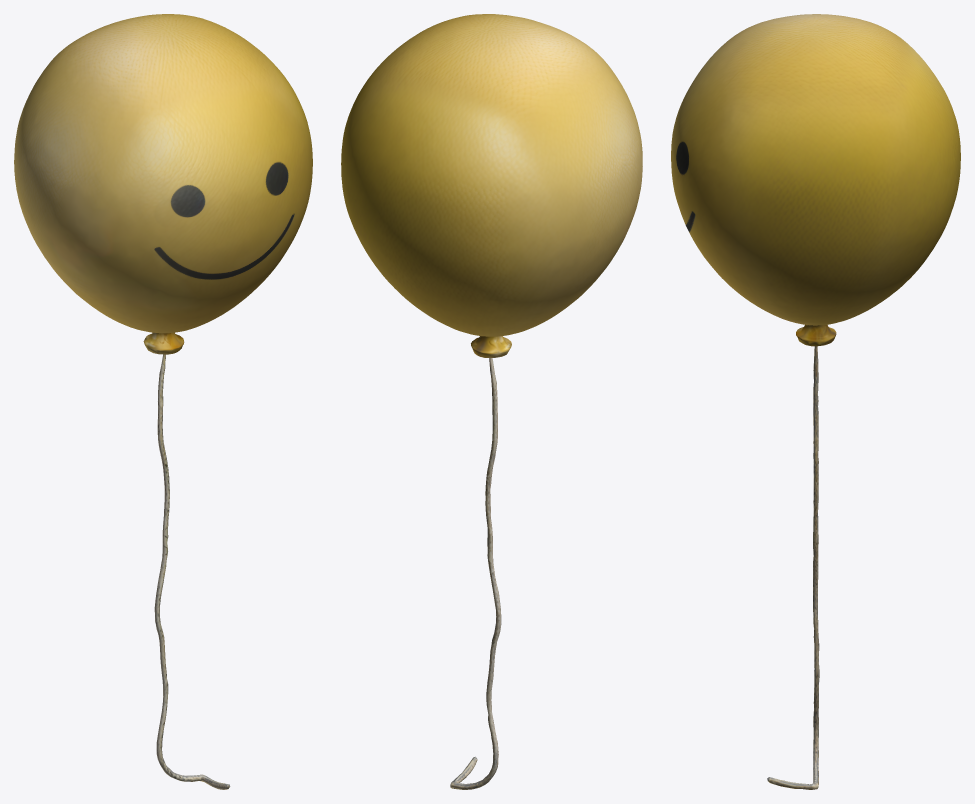
The model's file is VAR_FloralCorridor_SmileBalloon.fbx.
3 renders of one model, left to right at view 1: azimuth 30°, elevation 25°; view 2: azimuth 150°, elevation 25°; view 3: azimuth 270°, elevation 25°, orthographic. The views are drawn at different scales.
Visible parts, largest first — view 1: texture_mapping; view 2: texture_mapping; view 3: texture_mapping.
Boxes of the visible parts, x1=… form: texture_mapping: x1=14, y1=14, x2=312, y2=789; texture_mapping: x1=341, y1=14, x2=642, y2=789; texture_mapping: x1=671, y1=14, x2=960, y2=789.
Size of the model in its own units: 0.3542 by 0.3545 by 1.
Materials: 1 (1 with a texture image).
